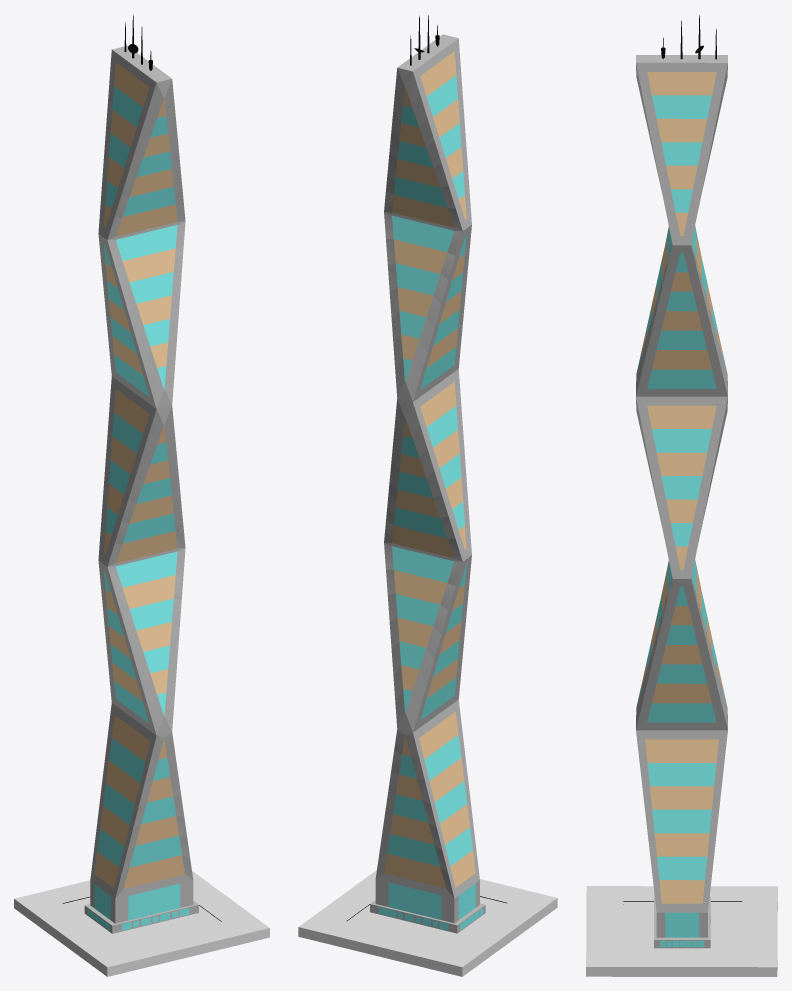
The model's file is villa.glb.
3 views of the same model, side by side, from view 1: azimuth 30°, elevation 25°; view 2: azimuth 150°, elevation 25°; view 3: azimuth 270°, elevation 25° (orthographic). The views are drawn at different scales.
Visible parts, largest first — view 1: Cube.001; view 2: Cube.001; view 3: Cube.001.
Boxes of the visible parts, bbox=[...] form: Cube.001: bbox=[14, 14, 269, 976]; Cube.001: bbox=[298, 14, 557, 976]; Cube.001: bbox=[586, 14, 777, 976].
Bounding box in the file's own units: 4.27 × 22.66 × 4.27.
